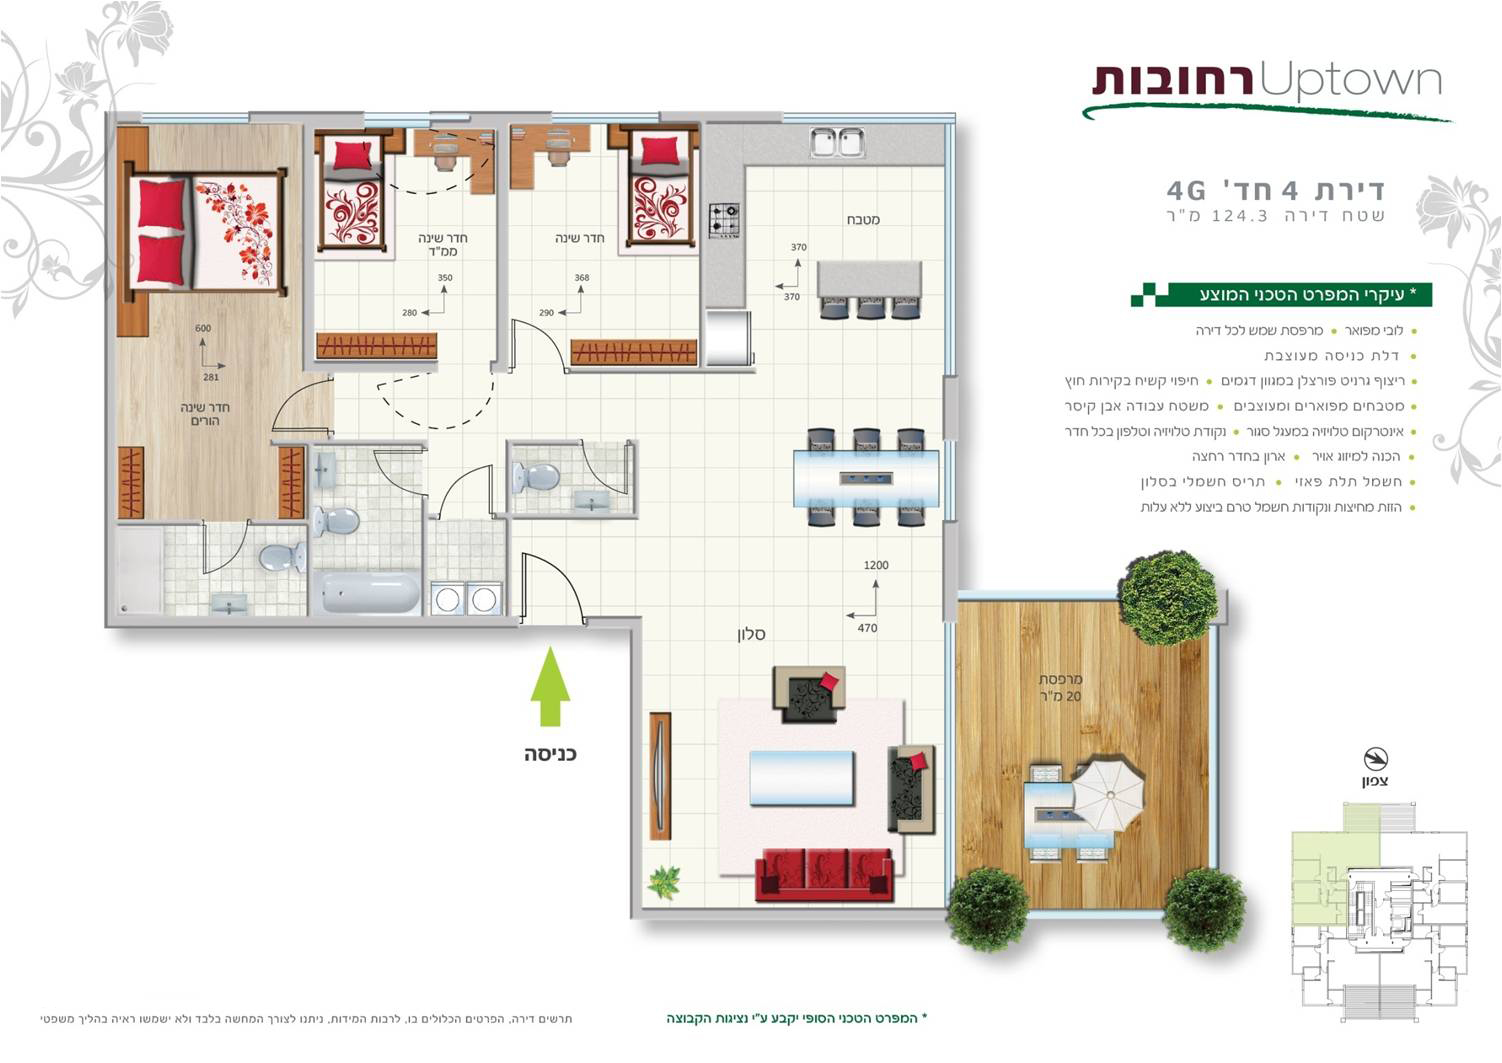door: (512, 546, 584, 607), (190, 530, 248, 579), (507, 315, 559, 362), (371, 448, 423, 495), (269, 382, 308, 438), (574, 451, 631, 489)
